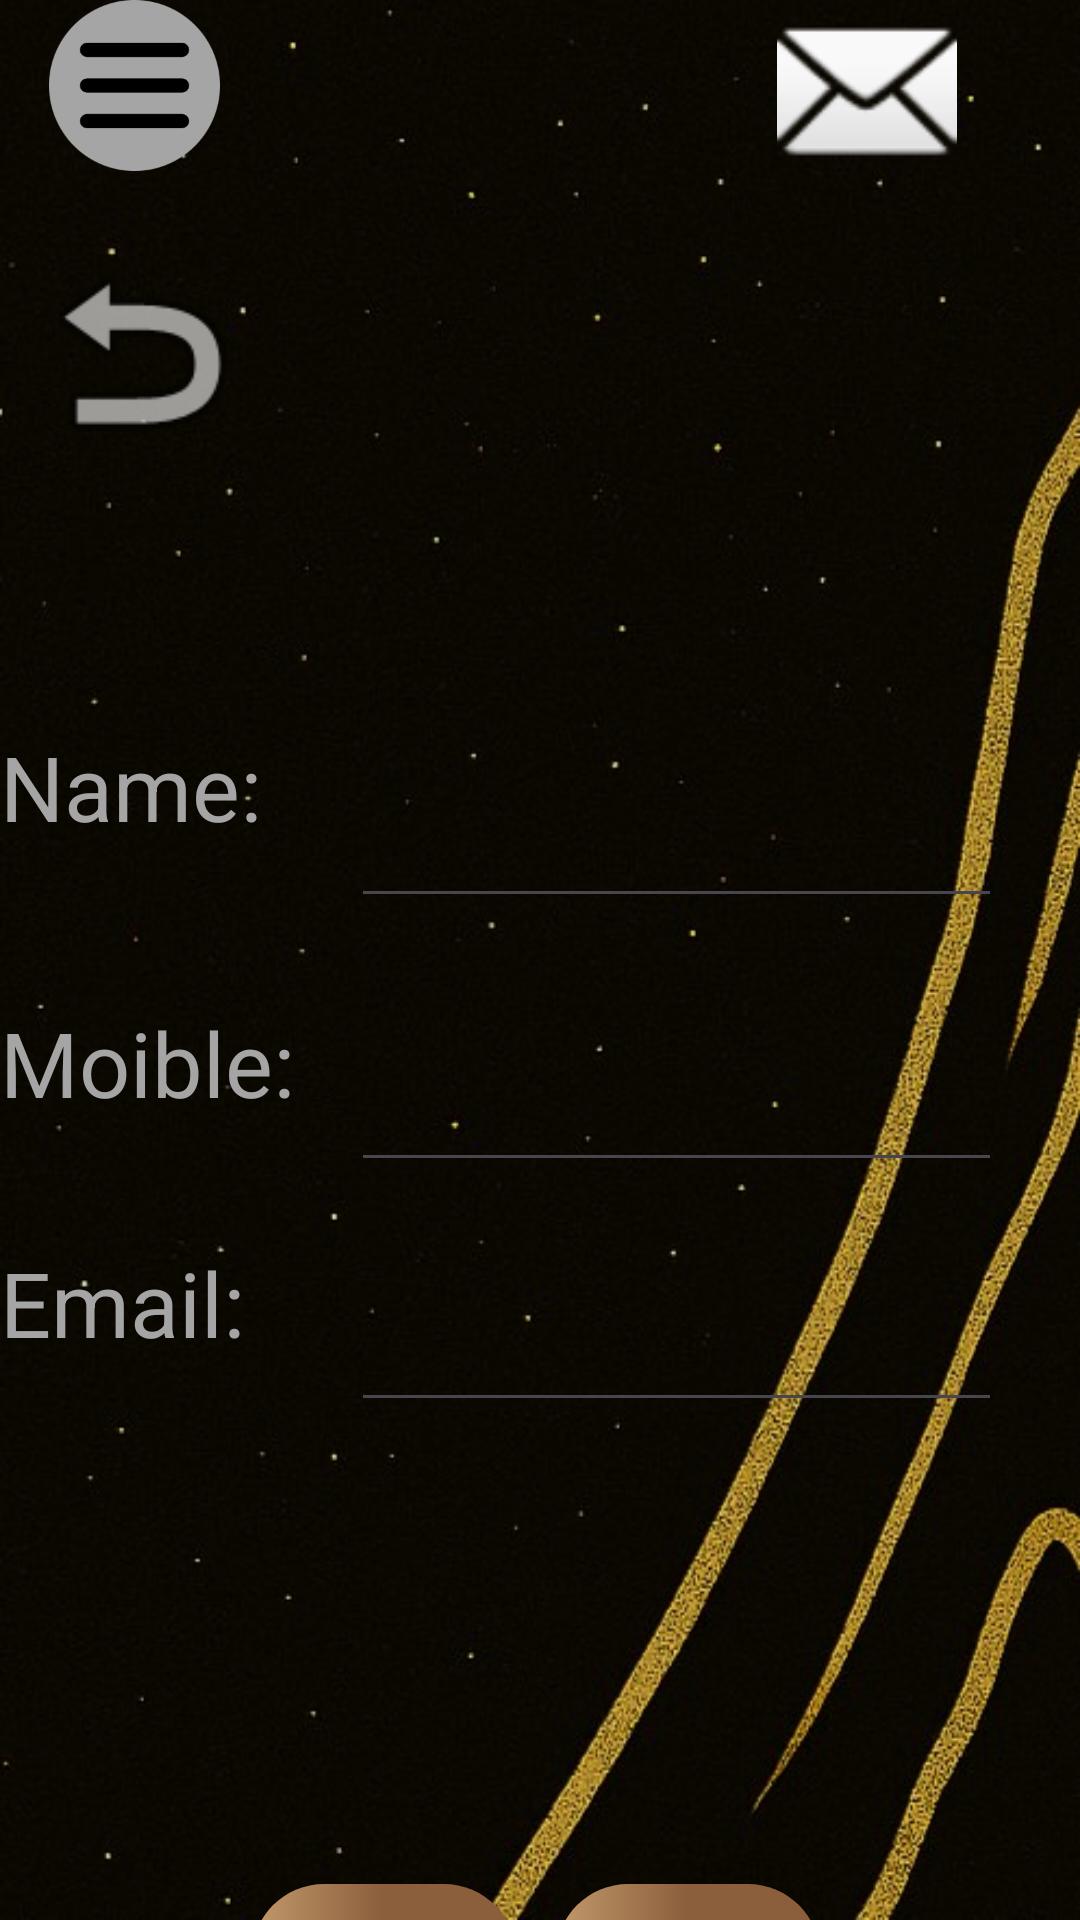

Point at icon controls on the screen. Image size 1080 x 1920, points as (x,y).
burger menu: (134,85)
email: (854,91)
revert: (155,336)
